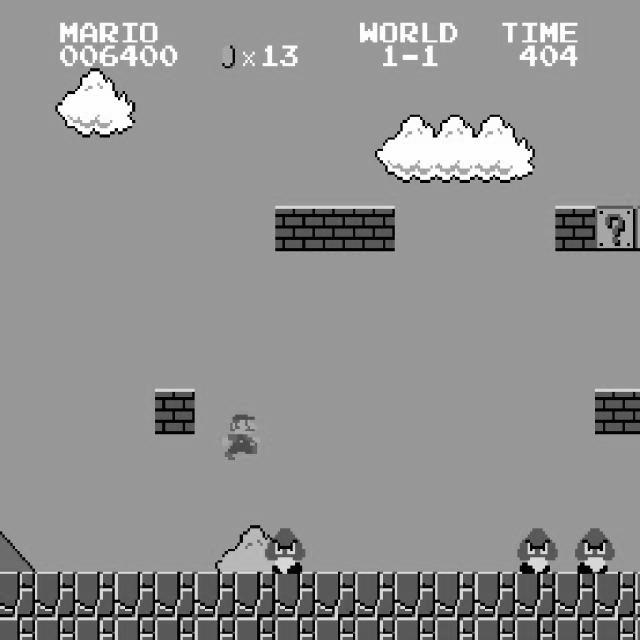1- brick_block: (154, 388, 196, 434), (594, 388, 636, 434), (274, 206, 316, 251), (314, 206, 356, 251), (354, 206, 396, 251), (554, 206, 596, 251), (635, 388, 640, 434)
11- little_mario: (220, 412, 263, 460)
13- mystery_block: (594, 206, 636, 251), (635, 206, 640, 251)
17- undestructible_block: (34, 572, 76, 618), (74, 572, 116, 618), (114, 572, 156, 618), (154, 572, 196, 618), (194, 572, 236, 618), (234, 572, 276, 618), (274, 572, 316, 618), (314, 572, 356, 618), (354, 572, 396, 618), (394, 572, 436, 618), (434, 572, 476, 618), (474, 572, 516, 618), (514, 572, 556, 618), (554, 572, 596, 618), (594, 572, 636, 618), (0, 572, 35, 618), (34, 617, 76, 640), (74, 617, 116, 640), (114, 617, 156, 640), (154, 617, 196, 640), (194, 617, 236, 640), (234, 617, 276, 640), (274, 617, 316, 640), (314, 617, 356, 640), (354, 617, 396, 640), (394, 617, 436, 640), (434, 617, 476, 640), (474, 617, 516, 640), (514, 617, 556, 640), (554, 617, 596, 640), (594, 617, 636, 640), (0, 617, 35, 640), (635, 572, 640, 618), (635, 617, 640, 640)
8- goomba: (515, 526, 558, 574), (262, 526, 305, 574), (572, 526, 615, 574)
